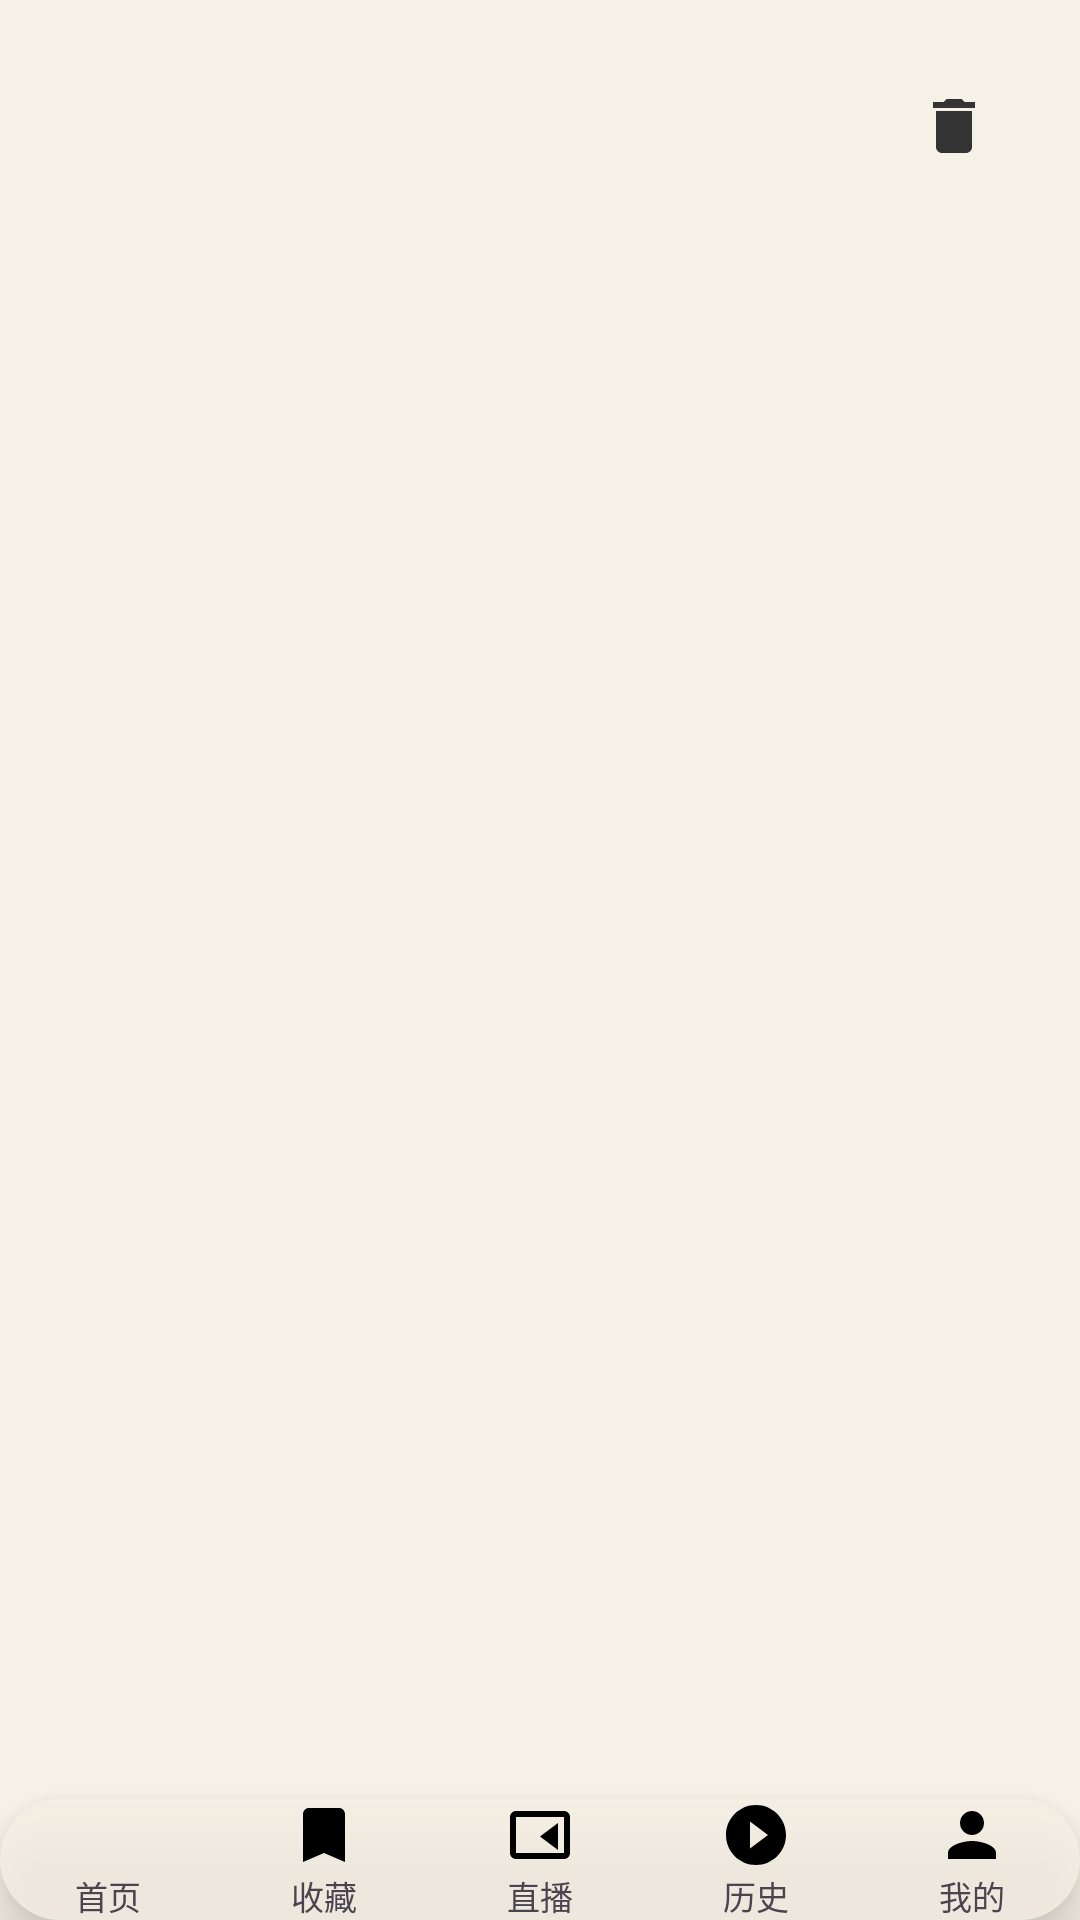

Screen size 1080 × 1920. Icon name, then its center in pixels as point (x, y):
清空: point (954, 126)
